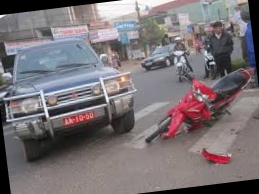plate: (62, 111, 97, 129)
